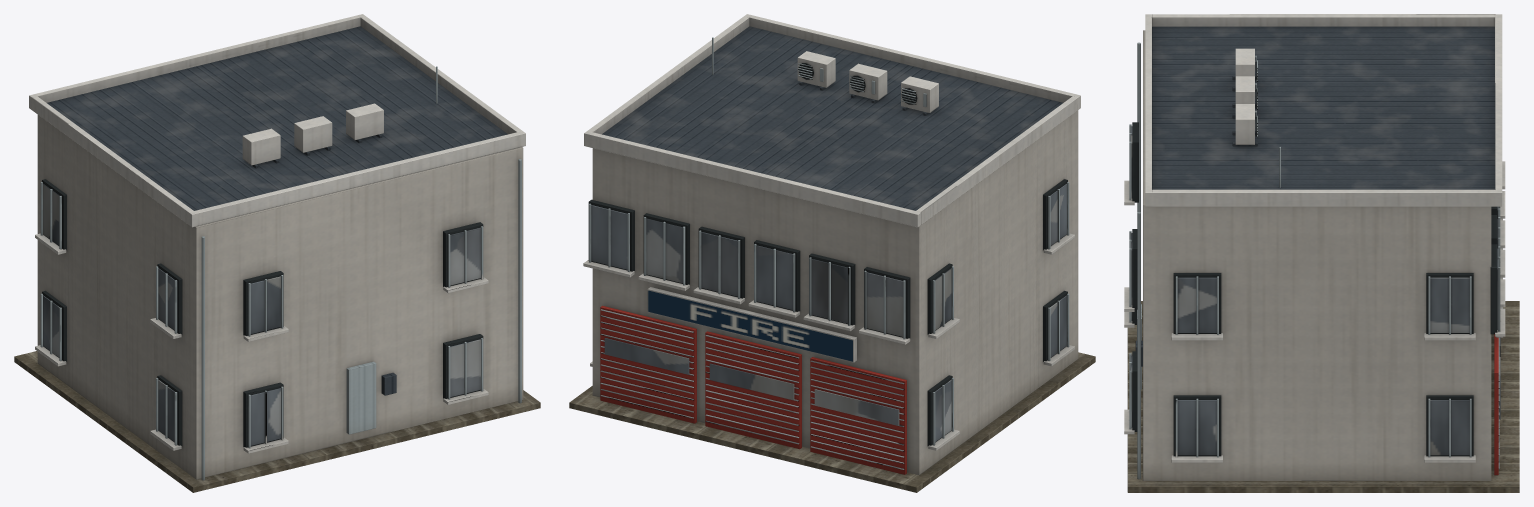
File: public_007.obj
3 views of the same model, side by side, from view 1: azimuth 30°, elevation 25°; view 2: azimuth 150°, elevation 25°; view 3: azimuth 270°, elevation 25° (orthographic). The views are drawn at different scales.
Parts seen in each view (by area): view 1: public_007; view 2: public_007; view 3: public_007.
Boxes of the visible parts, bbox=[...] form: public_007: bbox=[14, 14, 540, 492]; public_007: bbox=[569, 14, 1095, 492]; public_007: bbox=[1124, 14, 1519, 492].
Size of the model in its own units: 10.1 by 8.3 by 9.08.
Materials: 1 (1 with a texture image).
